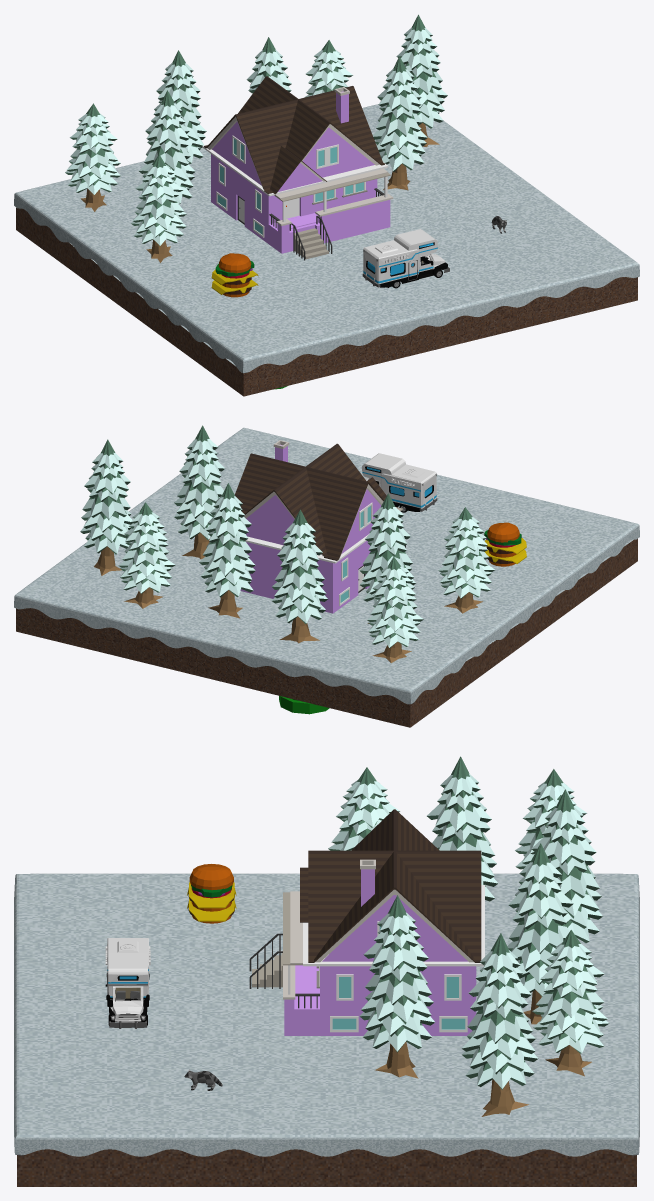
The picture shows the model from 3 angles, top to bottom: view 1: azimuth 30°, elevation 25°; view 2: azimuth 150°, elevation 25°; view 3: azimuth 270°, elevation 25°; orthographic projection. The views are drawn at different scales.
Parts seen in each view (by area): view 1: Cube.003, Cube.391, VEHICLES_CAMPER, OBJRANDOM_HAMBURGER; view 2: Cube.003, Cube.391, VEHICLES_CAMPER, OBJRANDOM_HAMBURGER, UNDERGROUND_PIPES; view 3: Cube.003, Cube.391, VEHICLES_CAMPER, OBJRANDOM_HAMBURGER.
Part boxes in pixels (left/top/right/bottom): Cube.003: left=14, top=14, right=639, bottom=396; Cube.391: left=202, top=76, right=393, bottom=260; VEHICLES_CAMPER: left=362, top=229, right=449, bottom=288; OBJRANDOM_HAMBURGER: left=211, top=253, right=258, bottom=297; Cube.003: left=14, top=425, right=639, bottom=727; Cube.391: left=235, top=440, right=405, bottom=613; VEHICLES_CAMPER: left=362, top=453, right=437, bottom=512; OBJRANDOM_HAMBURGER: left=484, top=522, right=526, bottom=566; UNDERGROUND_PIPES: left=279, top=696, right=329, bottom=714; Cube.003: left=14, top=756, right=639, bottom=1186; Cube.391: left=249, top=809, right=484, bottom=1035; VEHICLES_CAMPER: left=105, top=938, right=150, bottom=1028; OBJRANDOM_HAMBURGER: left=187, top=864, right=236, bottom=923.
Size of the model in its own units: 4040 by 2275 by 4040.
Materials: 34 (3 with a texture image).
